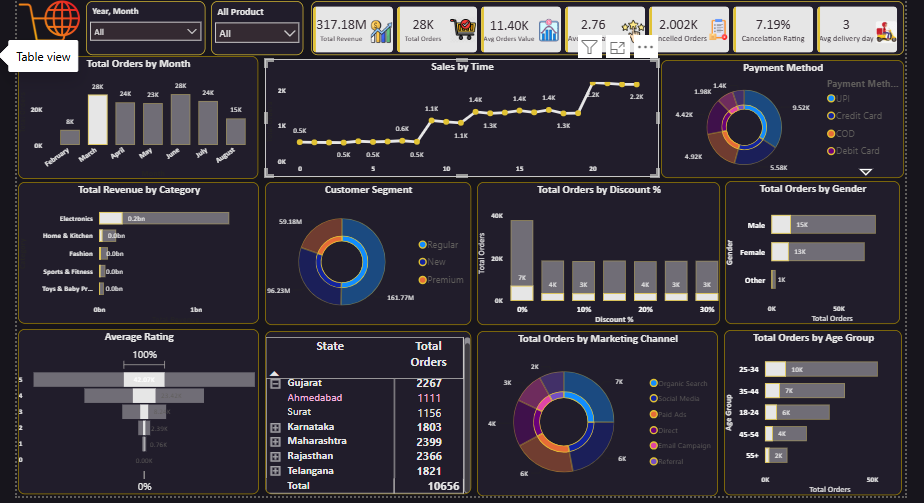

The dashboard page shown, as its layout file describes it:
{"tool":"powerbi","page":{"name":"Page 1","canvas":[1280,720],"ordinal":0},"visuals":[{"type":"cardVisual","fields":{"Data":["Orders.Total Revenue","Orders.Total Orders","Orders.Average order Value","Orders.Average Rating","Orders.Cancelled Orders","Orders.Cancelation Rating","Orders.Avg delivery day"]},"box":[423.4,7.2,853.9,77.8],"z":0},{"type":"clusteredColumnChart","fields":{"Category":["Orders.Date.Variation.Date Hierarchy.Month"],"Y":["Orders.Total Orders"]},"box":[1.4,86.4,345.6,177.1],"z":1000},{"type":"donutChart","title":"Payment Method","fields":{"Category":["Orders.Payment Method"],"Y":["CountNonNull(Orders.Payment Method)"]},"box":[927.4,92.2,349.9,169.9],"z":2000},{"type":"lineChart","title":"Sales by Time","fields":{"Category":["Orders.Hour"],"Y":["Orders.Total Orders"]},"box":[356.7,90,567.4,169.9],"z":3000},{"type":"pivotTable","fields":{"Rows":["Orders.State","Orders.City"],"Values":["Orders.Total Orders"]},"box":[357.1,482.4,296.6,234.7],"z":4000},{"type":"funnel","title":"Average Rating","fields":{"Category":["Orders.Rating (1-5)"],"Y":["Sum(Orders.Rating (1-5))"]},"box":[1.4,479.5,347,237.6],"z":5000},{"type":"pieChart","fields":{"Category":["Orders.Marketing Channel"],"Y":["Orders.Total Orders"]},"box":[662.4,482.4,347,237.6],"z":6000},{"type":"barChart","fields":{"Category":["Orders.Gender"],"Y":["Orders.Total Orders"]},"box":[1019.5,266.4,252,205.9],"z":7000},{"type":"slicer","fields":{"Values":["Orders.Date.Variation.Date Hierarchy.Year","Orders.Date.Variation.Date Hierarchy.Month"]},"box":[100,6.7,171.7,78.3],"z":8000},{"type":"slicer","title":"All Products","fields":{"Values":["Products.Category","Products.Product"]},"box":[280,6.7,133.3,78.3],"z":9000},{"type":"clusteredBarChart","fields":{"Category":["Orders.Age Group"],"Y":["Orders.Total Orders"]},"box":[1018.1,481,256.3,237.6],"z":10000},{"type":"pieChart","title":"Customer Segment","fields":{"Category":["Orders.Customer Segment"],"Y":["Orders.Total Revenue"]},"box":[357.1,267.8,296.6,205.9],"z":11000},{"type":"clusteredColumnChart","fields":{"Y":["Orders.Total Orders"],"Category":["Orders.Discount %"]},"box":[662.4,267.8,349.9,205.9],"z":12000},{"type":"clusteredBarChart","fields":{"Category":["Products.Category"],"Y":["Orders.Total Revenue"]},"box":[1.4,267.8,347,204.5],"z":13000},{"type":"image","box":[0,0,93.3,91.7],"z":14000}]}

Visuals, with their boxes in screenshot pixels (x1, y1, x2, y2):
cardVisual - Orders.Total Revenue x Orders.Total Orders: select_region(311, 3, 899, 56)
clusteredColumnChart - Orders.Date.Variation.Date Hierarchy.Month x Orders.Total Orders: select_region(20, 57, 258, 179)
"Payment Method" donutChart: select_region(658, 61, 899, 178)
"Sales by Time" lineChart: select_region(265, 60, 656, 177)
pivotTable - Orders.State x Orders.City: select_region(265, 330, 470, 492)
"Average Rating" funnel: select_region(20, 328, 259, 492)
pieChart - Orders.Marketing Channel x Orders.Total Orders: select_region(476, 330, 715, 494)
barChart - Orders.Gender x Orders.Total Orders: select_region(722, 181, 895, 323)
slicer - Orders.Date.Variation.Date Hierarchy.Year x Orders.Date.Variation.Date Hierarchy.Month: select_region(88, 2, 206, 56)
"All Products" slicer: select_region(212, 2, 304, 56)
clusteredBarChart - Orders.Age Group x Orders.Total Orders: select_region(721, 329, 897, 493)
"Customer Segment" pieChart: select_region(265, 182, 470, 324)
clusteredColumnChart - Orders.Total Orders x Orders.Discount %: select_region(476, 182, 717, 324)
clusteredBarChart - Products.Category x Orders.Total Revenue: select_region(20, 182, 259, 323)
image: select_region(19, 0, 84, 61)
